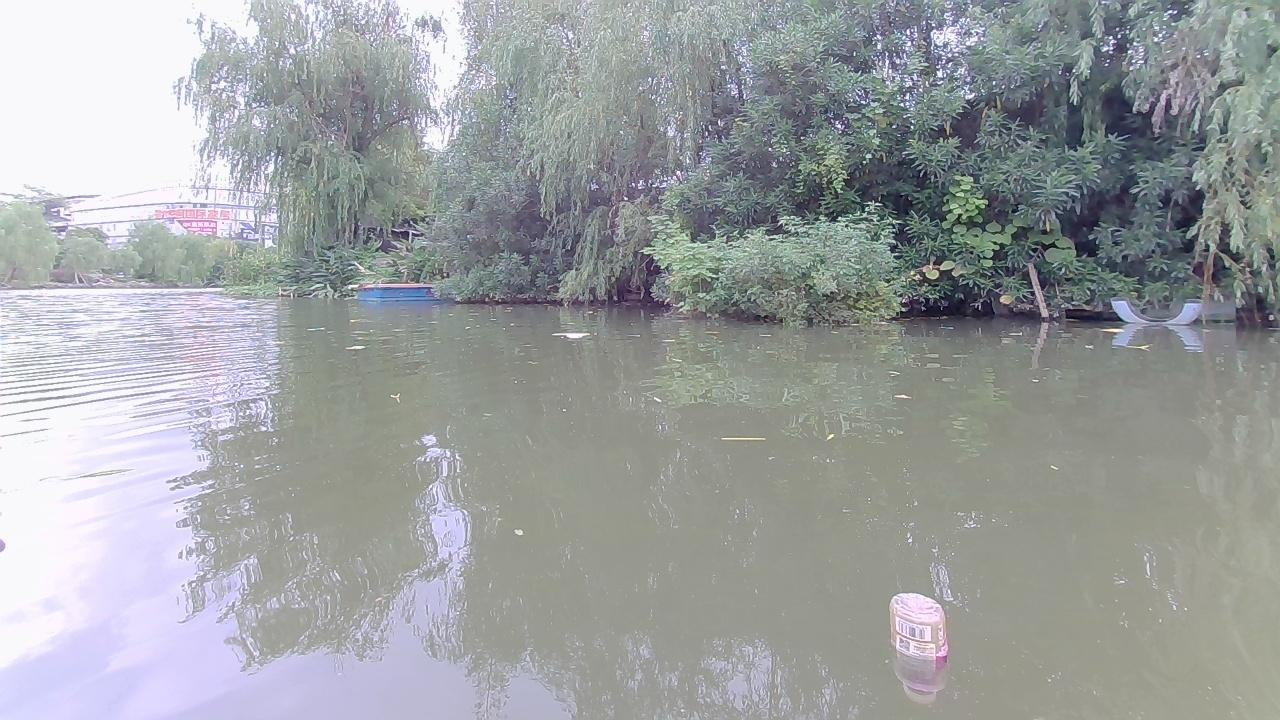bottle: (890, 591, 948, 659)
